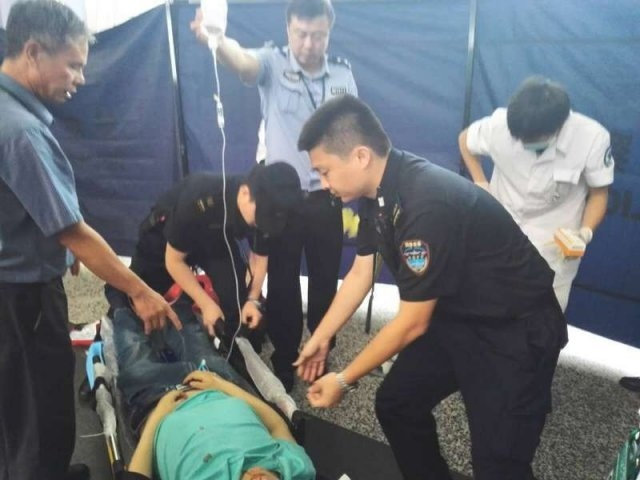falling: (83, 263, 349, 480)
